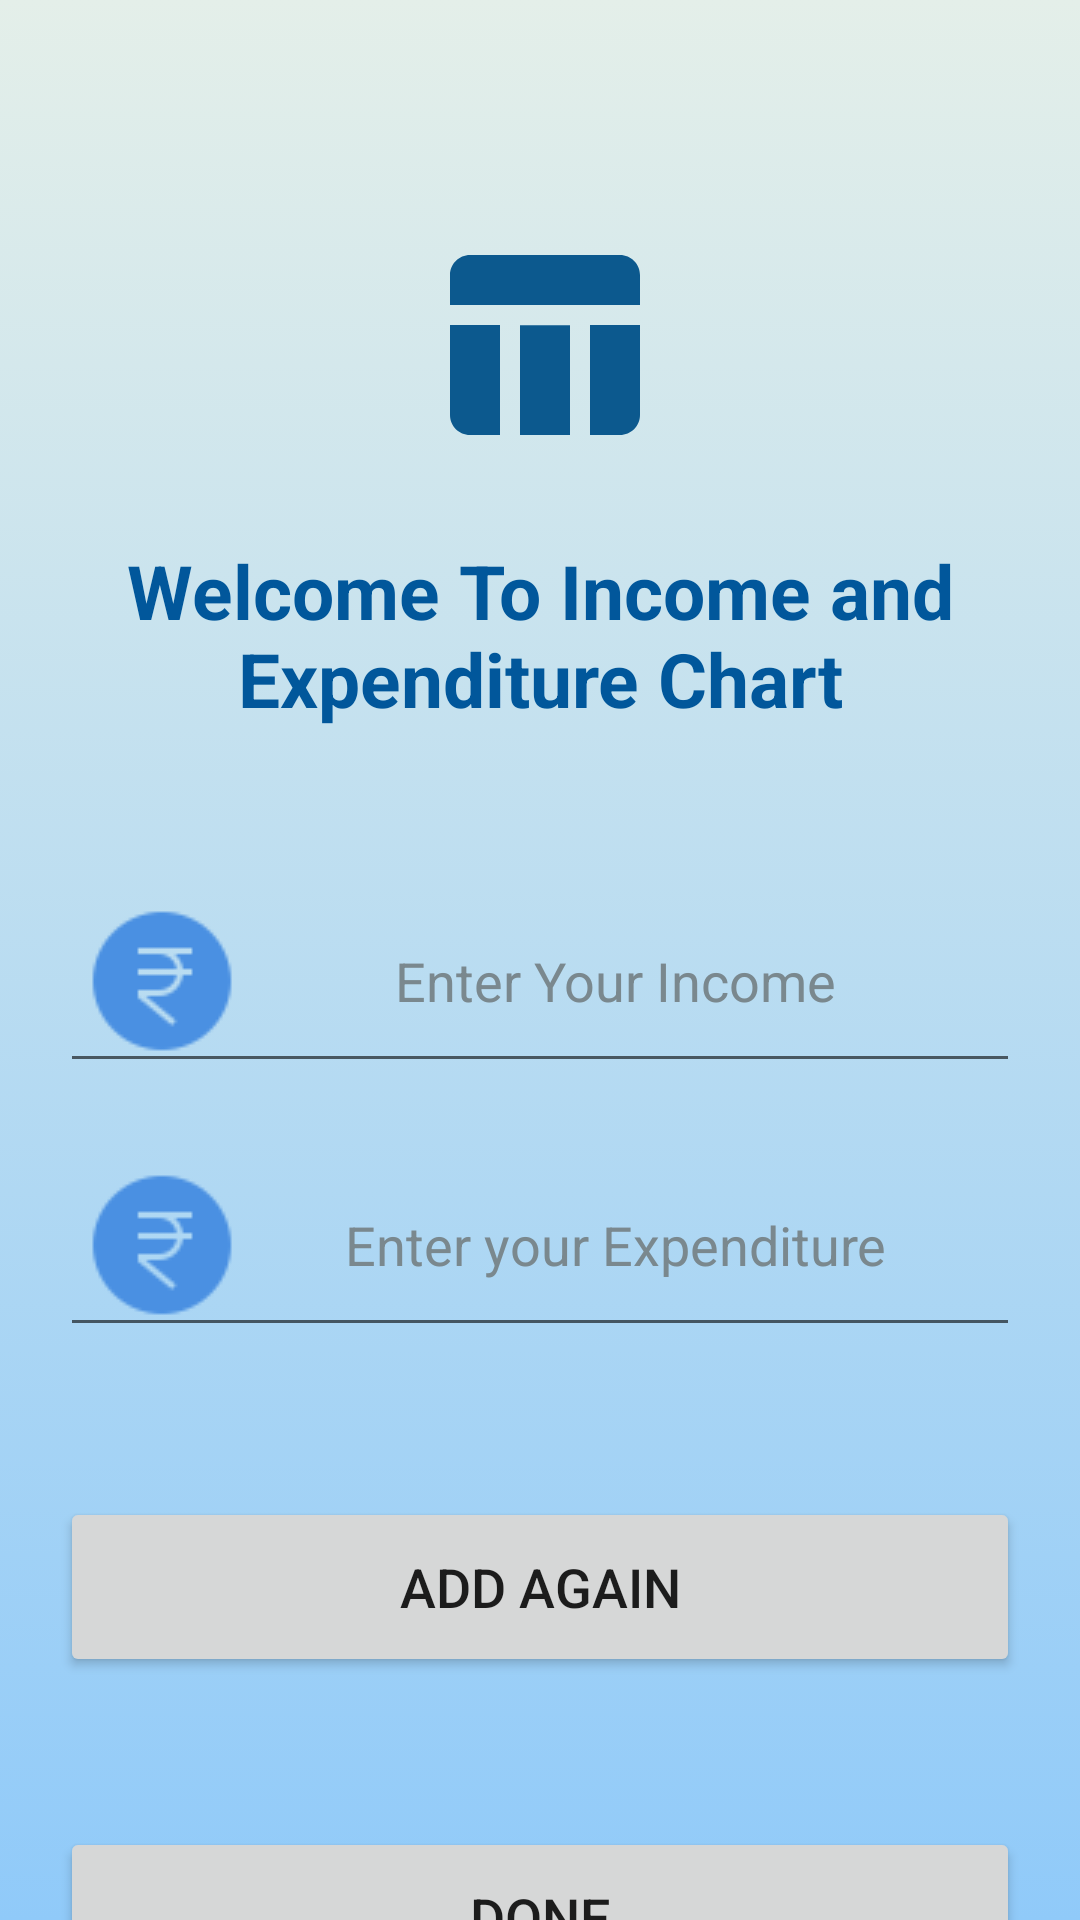

Icons on this 1080*1920 Android screen, each with the point to tap as [x,y]:
table chart: [545,345]
